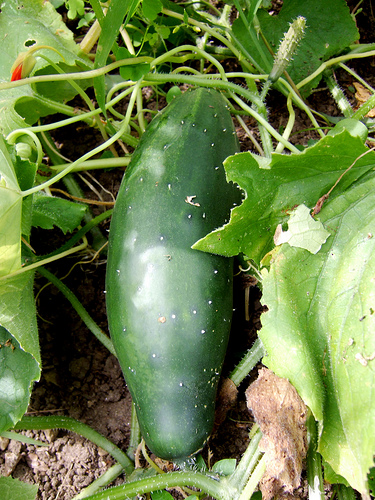cucumber: (101, 82, 245, 463)
